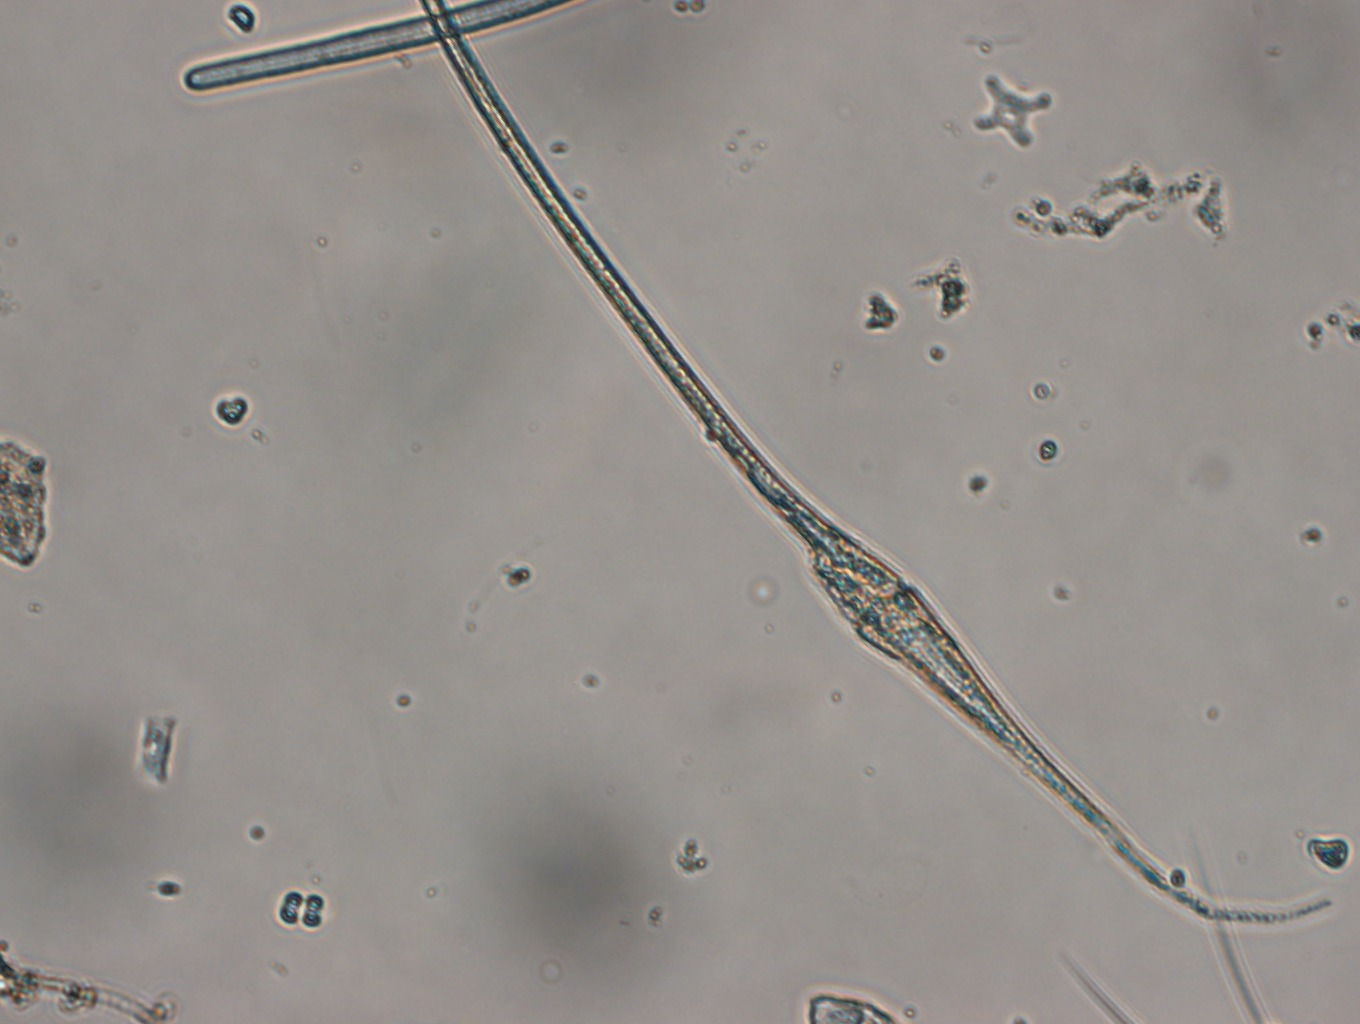ceratium fusus: (423, 1, 1331, 924)
